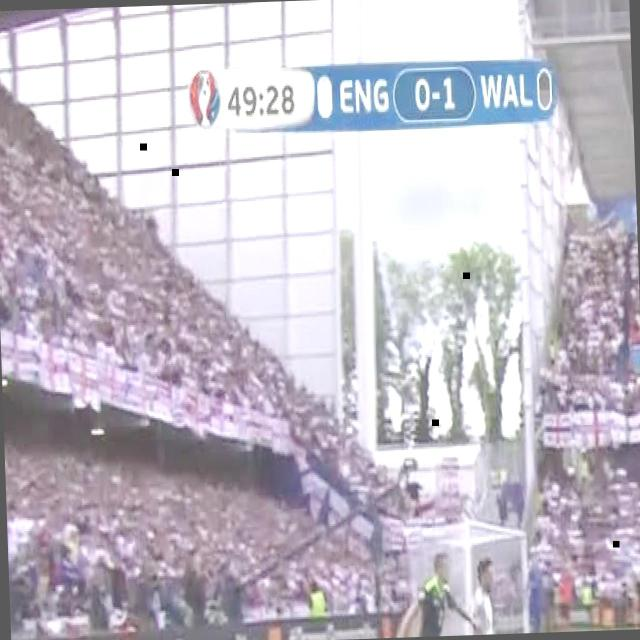player-white: (388, 548, 474, 638), (628, 257, 640, 629), (443, 556, 498, 636), (519, 555, 545, 633)
